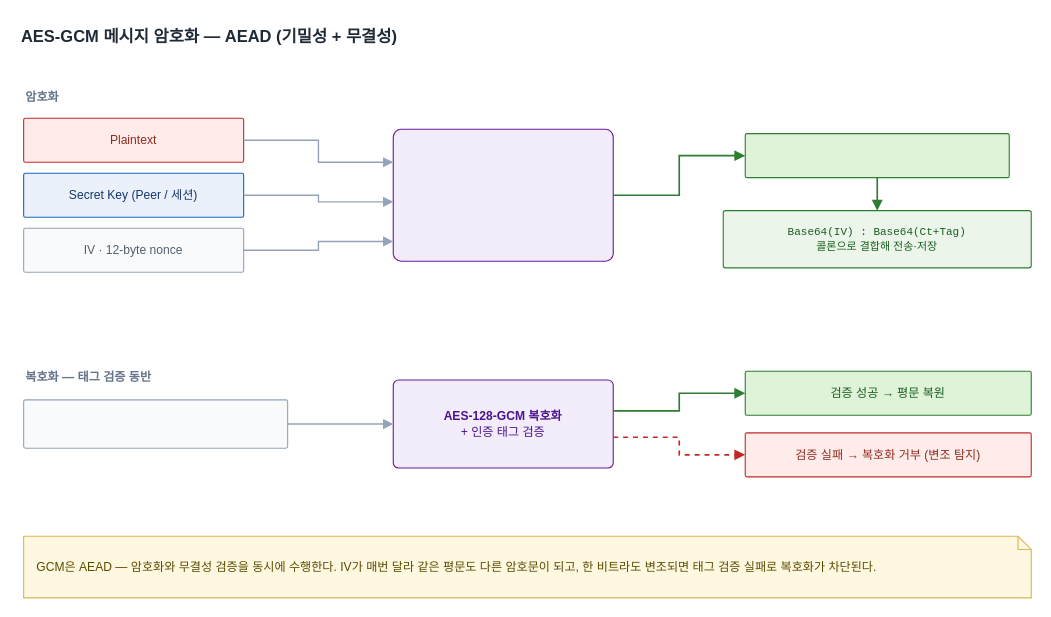
The diagram is 1051 pixels wide and 617 high, and some of its shapes have lost their labels. Here are the shapes that lost their labels. From the top down, the centre of each, then its label:
(876,155): Ciphertext + Tag (128b)
(502,194): AES-128-GCM CTR 모드 암호화 GHASH → 인증 태그
(155,423): split(":") → IV, Ct+Tag
